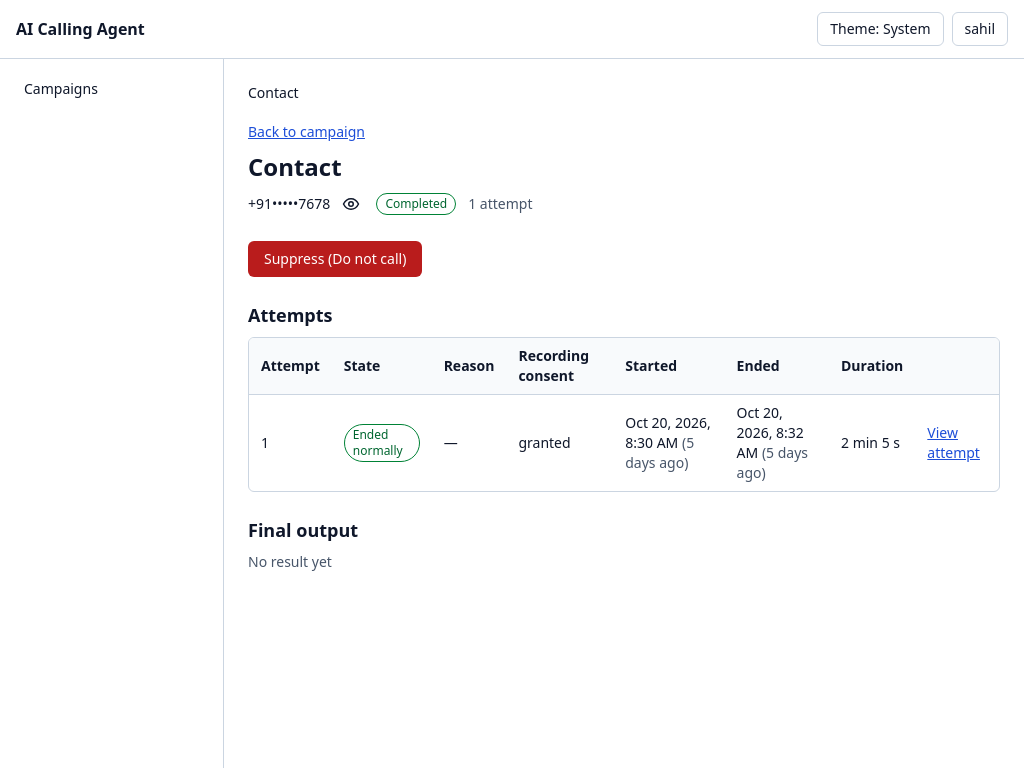
Test case: suppression › the dialog warns it is permanent, counts the reason and sends it on confirm (201)
This screenshot has width=1024, height=768.
Click the button "Suppress (Do not call)" at {"x": 335, "y": 259}, box [248,241,422,277]
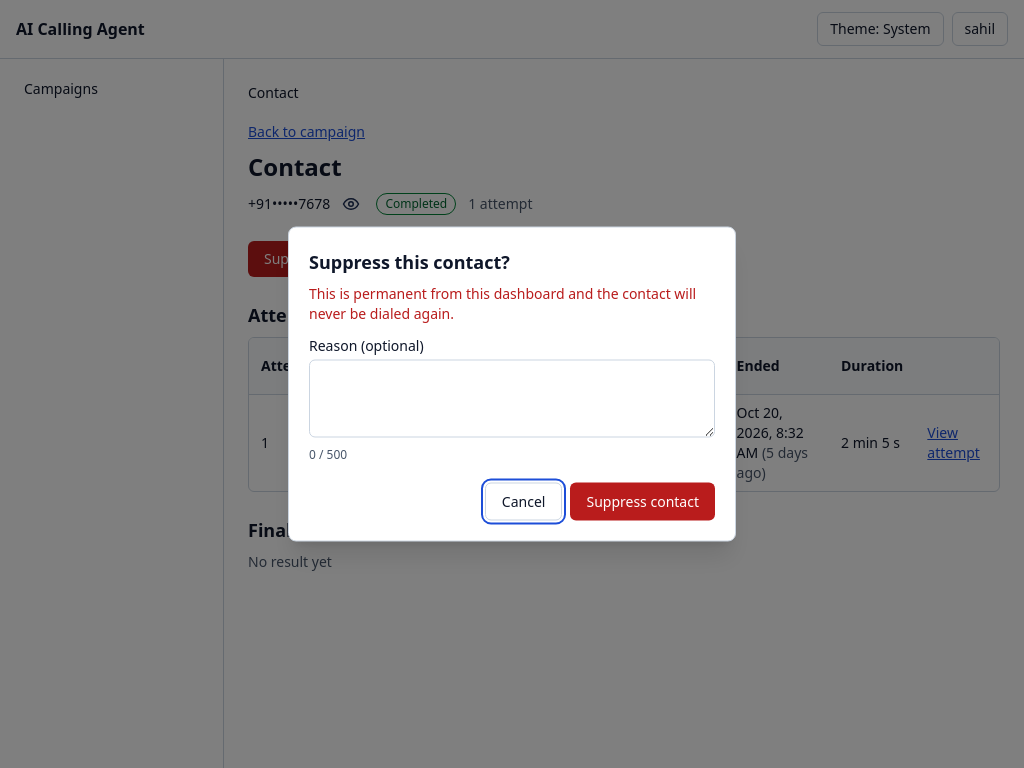
Expected: the text "This is permanent from this dashboard and the contact will never be dialed again." is shown, [309,284,696,322]
Type "DNC request" into the text box labelled "Reason (optional)" at {"x": 512, "y": 398}, box [309,360,715,438]
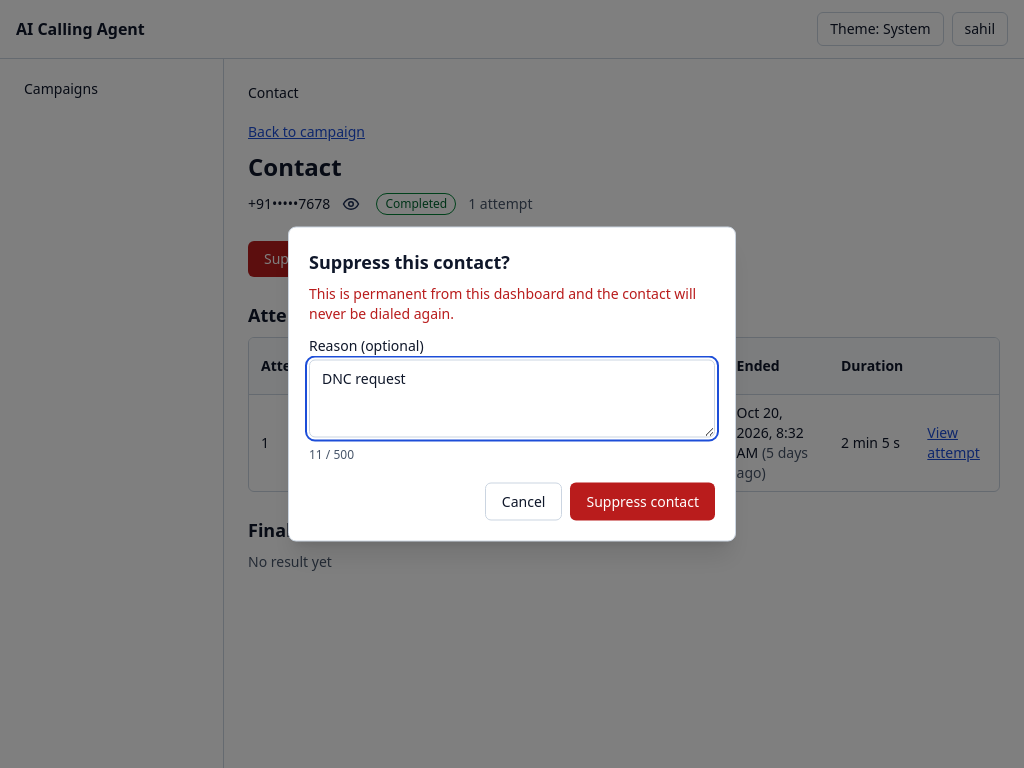
Click the button "Suppress contact" at {"x": 643, "y": 502}, box [570,482,715,520]
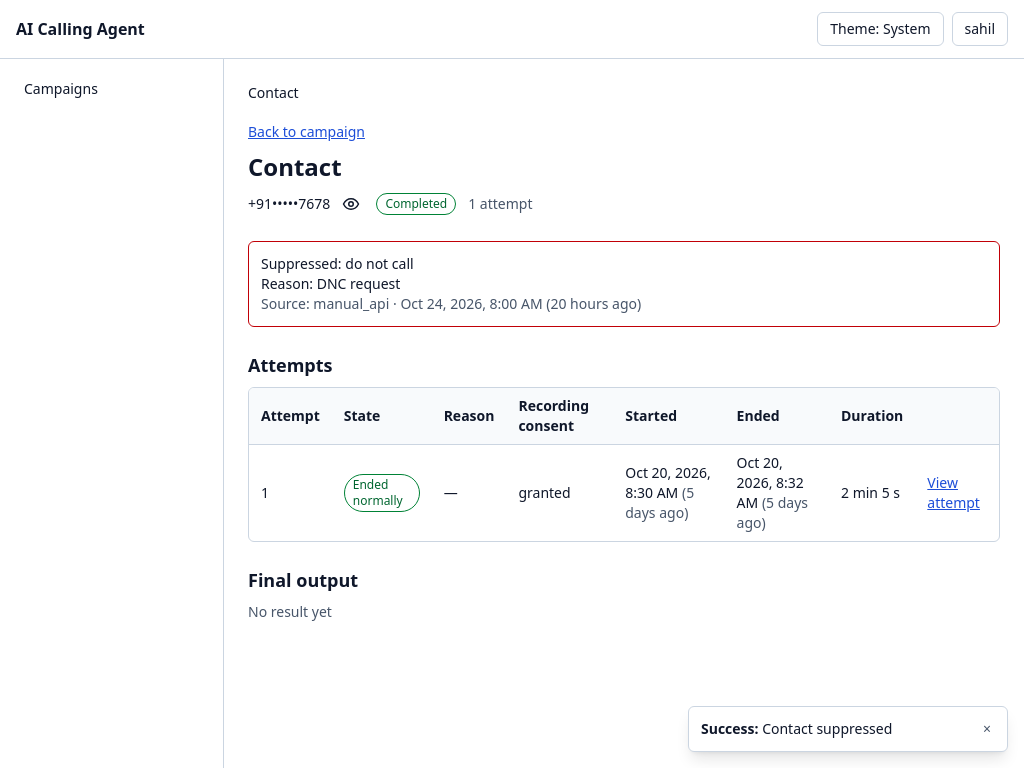
Expected: the text "Contact suppressed" is shown, [762,719,892,738]
Expected: the text "Suppressed: do not call" is shown, [261,254,414,273]
Expected: the button "Suppress (Do not call)" is gone
